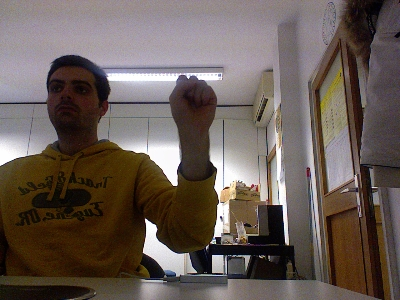石头: (167, 73, 217, 133)
